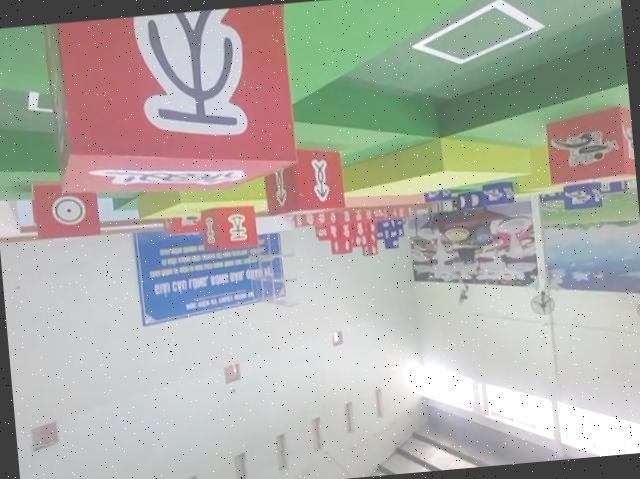R1: (546, 105, 636, 183)
R2 Fake: (47, 3, 298, 206)
R2 Real: (263, 146, 347, 216), (32, 178, 100, 239), (198, 199, 260, 254)
